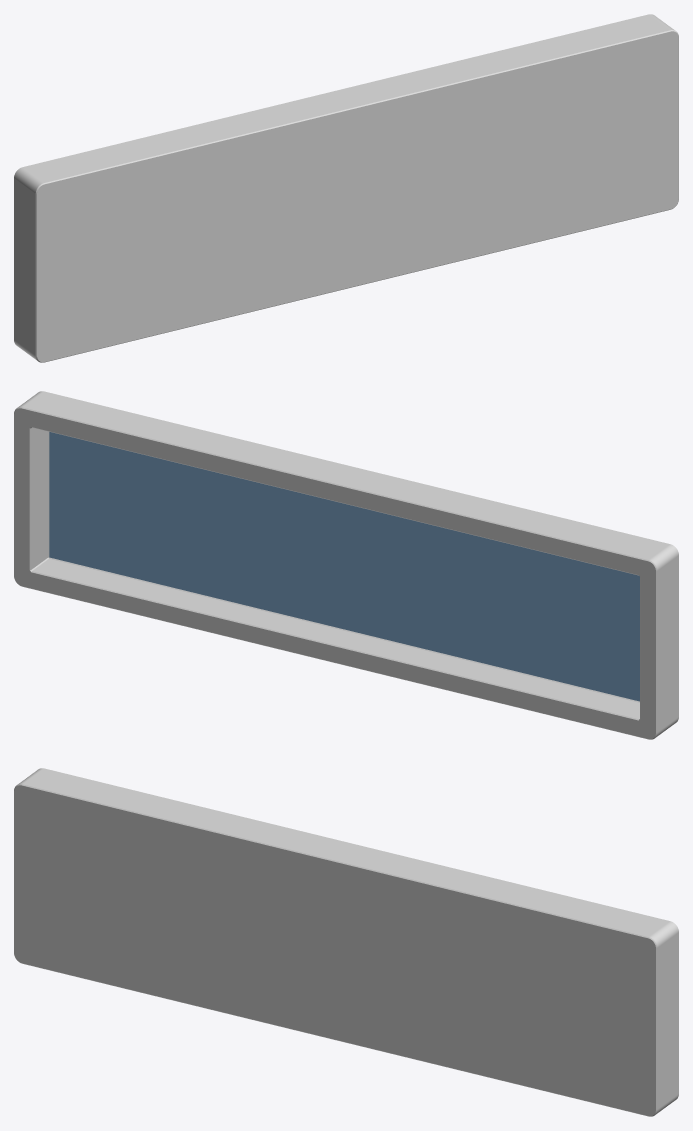
Rendered from fluorescent-fixture.glb.
3 views of the same model, one above another, from view 1: azimuth 30°, elevation 25°; view 2: azimuth 150°, elevation 25°; view 3: azimuth 330°, elevation 25° (orthographic).
Parts seen in each view (by area): view 1: geometry_0; view 2: geometry_0; view 3: geometry_0.
Boxes of the visible parts, <box> form: geometry_0: <box>14,14,678,362</box>; geometry_0: <box>14,391,678,739</box>; geometry_0: <box>14,768,678,1116</box>.
Size of the model in its own units: 900 by 240 by 55.
